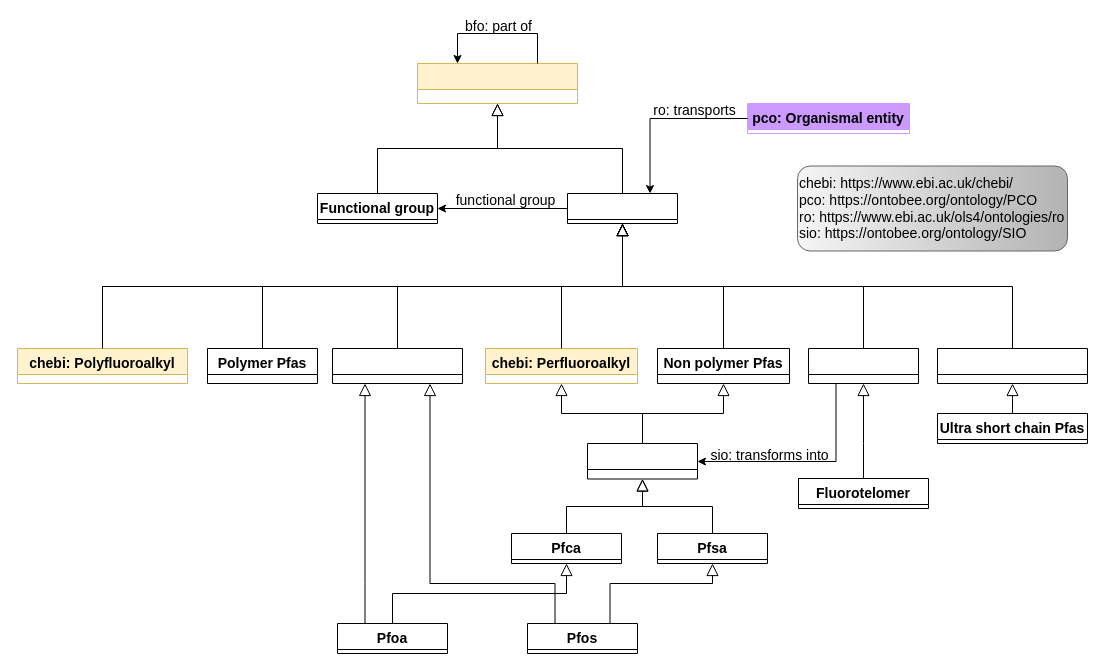
Some shapes in this 1105 by 671 pixel diagram are drawn without their labels. Here are the shapes that lost their labels. From the top down, the centre of each, then its label:
(x=497, y=83): chebi: Chemical entity
(x=622, y=208): Pfas
(x=397, y=366): Long chain Pfas
(x=863, y=366): Precursor
(x=1012, y=366): Short chain Pfas
(x=642, y=460): Pfaa
